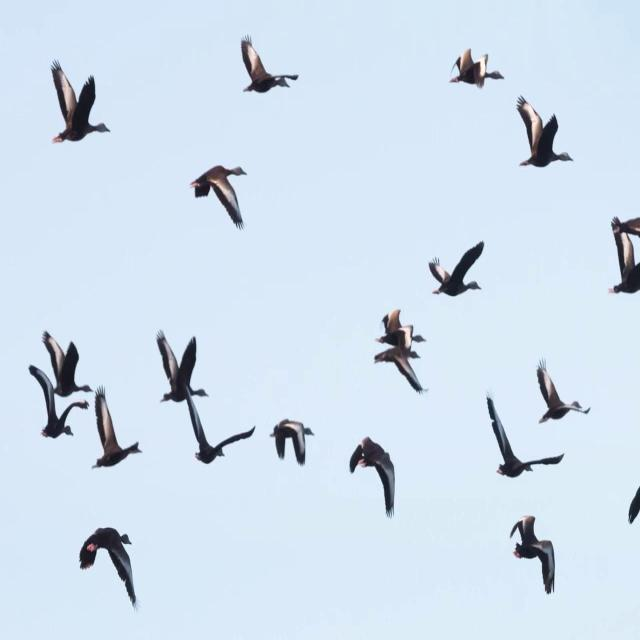bird: (482, 386, 565, 481), (180, 383, 259, 469), (78, 524, 144, 618), (48, 55, 112, 144), (20, 364, 90, 444), (88, 382, 144, 471), (152, 326, 213, 405), (510, 94, 575, 168), (531, 353, 593, 427), (37, 321, 94, 400), (507, 510, 556, 598), (188, 162, 249, 232), (348, 434, 397, 520), (238, 33, 300, 96), (424, 236, 486, 297), (369, 345, 434, 396), (446, 45, 506, 91), (371, 306, 428, 352), (269, 418, 316, 472)
